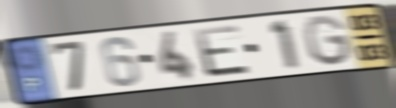1: (267, 19, 305, 72)
4: (158, 29, 197, 83)
6: (99, 35, 142, 89)
7: (49, 40, 89, 94)
E: (191, 22, 254, 79)
G: (301, 13, 355, 68)
